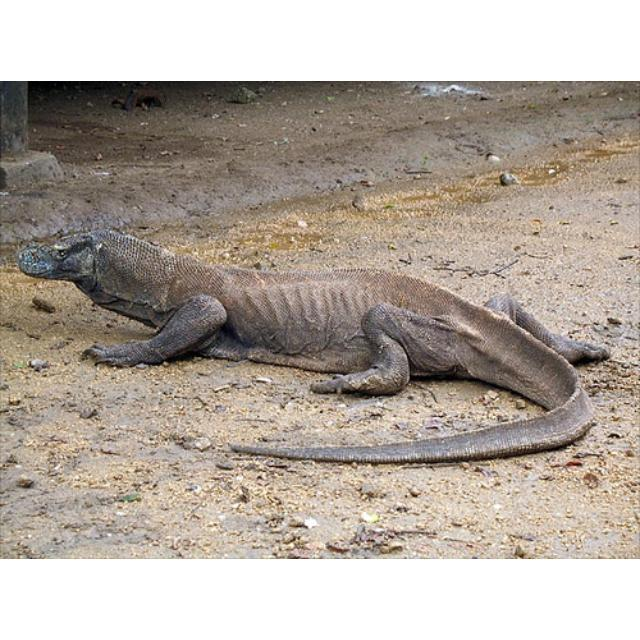KomodoDragon: (14, 224, 619, 469)
